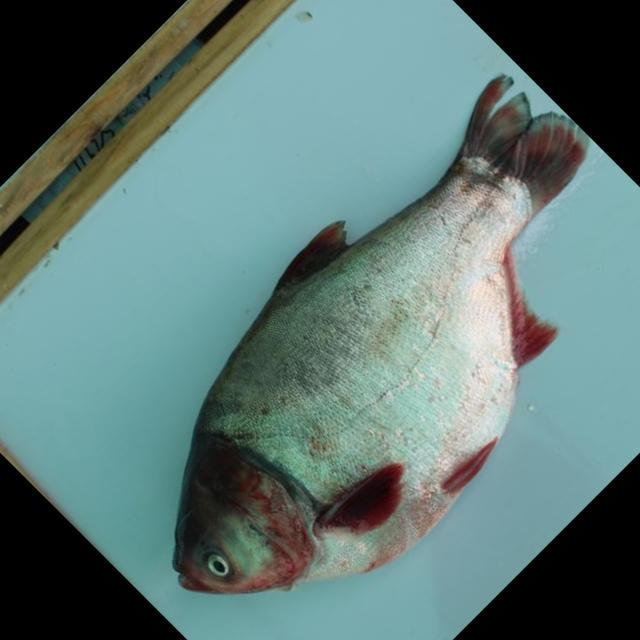SilverCarp: (113, 86, 575, 598)
